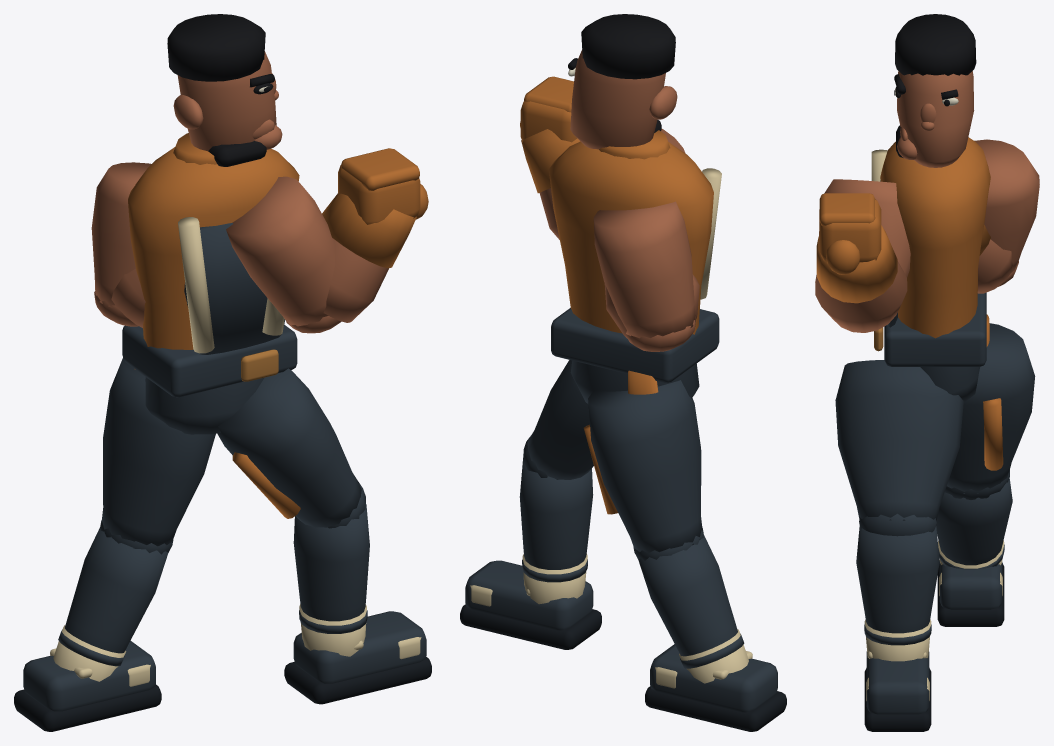
The model's file is shan-rig-v4.glb.
3 views of the same model, side by side, from view 1: azimuth 30°, elevation 25°; view 2: azimuth 150°, elevation 25°; view 3: azimuth 270°, elevation 25° (orthographic). The views are drawn at different scales.
Parts seen in each view (by area): view 1: shan__torso_surface, shan__thighF_surface, shan__head_surface, shan__thighB_surface, shan__upperArmF_surface, shan__shinB_surface, shan__shinF_surface, shan__footF_surface, shan__footB_surface, shan__forearmF_surface, shan__upperArmB_surface, shan__handF_surface (+2 smaller); view 2: shan__torso_surface, shan__thighB_surface, shan__head_surface, shan__upperArmB_surface, shan__shinB_surface, shan__shinF_surface, shan__footF_surface, shan__footB_surface, shan__thighF_surface, shan__handF_surface, shan__forearmF_surface, shan__pelvis_surface (+2 smaller); view 3: shan__torso_surface, shan__thighF_surface, shan__head_surface, shan__thighB_surface, shan__shinF_surface, shan__forearmF_surface, shan__upperArmB_surface, shan__shinB_surface, shan__footF_surface, shan__handF_surface, shan__footB_surface, shan__upperArmF_surface (+2 smaller).
Boxes of the visible parts, <box> form: shan__torso_surface: <box>122,133,299,397</box>; shan__thighF_surface: <box>217,368,365,528</box>; shan__head_surface: <box>167,14,282,166</box>; shan__thighB_surface: <box>100,357,215,554</box>; shan__upperArmF_surface: <box>226,176,341,333</box>; shan__shinB_surface: <box>53,527,168,681</box>; shan__shinF_surface: <box>293,503,369,656</box>; shan__footF_surface: <box>284,611,431,704</box>; shan__footB_surface: <box>14,640,161,731</box>; shan__forearmF_surface: <box>322,193,416,322</box>; shan__upperArmB_surface: <box>91,162,151,326</box>; shan__handF_surface: <box>338,148,428,224</box>; shan__torso_surface: <box>548,130,721,382</box>; shan__thighB_surface: <box>583,380,703,560</box>; shan__head_surface: <box>568,14,677,149</box>; shan__upperArmB_surface: <box>593,201,695,351</box>; shan__shinB_surface: <box>638,534,748,683</box>; shan__shinF_surface: <box>519,458,593,604</box>; shan__footF_surface: <box>460,560,601,649</box>; shan__footB_surface: <box>645,644,786,731</box>; shan__thighF_surface: <box>523,360,593,479</box>; shan__handF_surface: <box>520,76,577,142</box>; shan__forearmF_surface: <box>521,129,580,239</box>; shan__pelvis_surface: <box>570,360,699,403</box>; shan__torso_surface: <box>871,137,990,366</box>; shan__thighF_surface: <box>835,360,963,536</box>; shan__head_surface: <box>894,14,976,167</box>; shan__thighB_surface: <box>945,323,1035,499</box>; shan__shinF_surface: <box>856,525,939,661</box>; shan__forearmF_surface: <box>815,225,907,332</box>; shan__upperArmB_surface: <box>974,139,1039,286</box>; shan__shinB_surface: <box>936,478,1012,569</box>; shan__footF_surface: <box>864,651,931,731</box>; shan__handF_surface: <box>819,193,881,274</box>; shan__footB_surface: <box>937,561,1004,626</box>; shan__upperArmF_surface: <box>819,179,910,277</box>.
Bounding box in the file's own units: 1.8 × 3.28 × 1.08.
